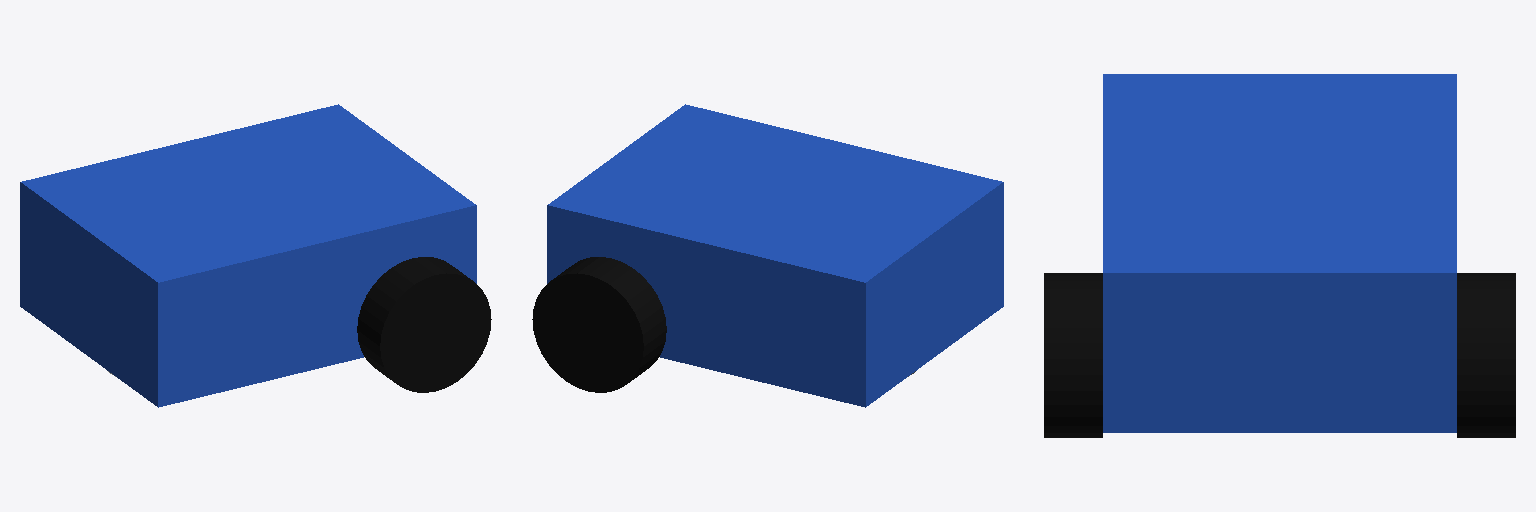
URDF robot description (diff_drive_robot):
<?xml version="1.0"?>
<robot name="diff_drive_robot">

  <!-- ==================== MATERIALS ==================== -->
  <material name="blue">
    <color rgba="0.2 0.4 0.8 1.0"/>
  </material>

  <material name="black">
    <color rgba="0.1 0.1 0.1 1.0"/>
  </material>

  <material name="grey">
    <color rgba="0.6 0.6 0.6 1.0"/>
  </material>

  <!-- ==================== BASE LINK ==================== -->
  <link name="base_link">
    <visual>
      <geometry>
        <box size="0.4 0.3 0.15"/>
      </geometry>
      <material name="blue"/>
      <origin xyz="0 0 0" rpy="0 0 0"/>
    </visual>
    <collision>
      <geometry>
        <box size="0.4 0.3 0.15"/>
      </geometry>
      <origin xyz="0 0 0" rpy="0 0 0"/>
    </collision>
    <inertial>
      <mass value="2.0"/>
      <origin xyz="0 0 0" rpy="0 0 0"/>
      <!-- Inertia for a solid cuboid: I = m/12 * (a² + b²) -->
      <inertia ixx="0.0158" ixy="0.0" ixz="0.0"
               iyy="0.0283" iyz="0.0"
               izz="0.0408"/>
    </inertial>
  </link>

  <!-- ==================== LEFT WHEEL ==================== -->
  <link name="left_wheel">
    <visual>
      <geometry>
        <cylinder radius="0.07" length="0.05"/>
      </geometry>
      <material name="black"/>
      <origin xyz="0 0 0" rpy="1.5708 0 0"/>
    </visual>
    <collision>
      <geometry>
        <cylinder radius="0.07" length="0.05"/>
      </geometry>
      <origin xyz="0 0 0" rpy="1.5708 0 0"/>
    </collision>
    <inertial>
      <mass value="0.5"/>
      <origin xyz="0 0 0" rpy="0 0 0"/>
      <!-- Inertia for a solid cylinder -->
      <inertia ixx="0.000583" ixy="0.0" ixz="0.0"
               iyy="0.000583" iyz="0.0"
               izz="0.001225"/>
    </inertial>
  </link>

  <!-- ==================== RIGHT WHEEL ==================== -->
  <link name="right_wheel">
    <visual>
      <geometry>
        <cylinder radius="0.07" length="0.05"/>
      </geometry>
      <material name="black"/>
      <origin xyz="0 0 0" rpy="1.5708 0 0"/>
    </visual>
    <collision>
      <geometry>
        <cylinder radius="0.07" length="0.05"/>
      </geometry>
      <origin xyz="0 0 0" rpy="1.5708 0 0"/>
    </collision>
    <inertial>
      <mass value="0.5"/>
      <origin xyz="0 0 0" rpy="0 0 0"/>
      <inertia ixx="0.000583" ixy="0.0" ixz="0.0"
               iyy="0.000583" iyz="0.0"
               izz="0.001225"/>
    </inertial>
  </link>

  <!-- ==================== CASTER WHEEL ==================== -->
  <link name="caster_wheel">
    <visual>
      <geometry>
        <sphere radius="0.035"/>
      </geometry>
      <material name="grey"/>
      <origin xyz="0 0 0" rpy="0 0 0"/>
    </visual>
    <collision>
      <geometry>
        <sphere radius="0.035"/>
      </geometry>
      <origin xyz="0 0 0" rpy="0 0 0"/>
    </collision>
    <inertial>
      <mass value="0.1"/>
      <origin xyz="0 0 0" rpy="0 0 0"/>
      <!-- Inertia for a solid sphere: I = 2/5 * m * r² -->
      <inertia ixx="0.0000049" ixy="0.0" ixz="0.0"
               iyy="0.0000049" iyz="0.0"
               izz="0.0000049"/>
    </inertial>
  </link>

  <!-- ==================== JOINTS ==================== -->

  <!-- Left wheel joint -->
  <joint name="left_wheel_joint" type="continuous">
    <parent link="base_link"/>
    <child link="left_wheel"/>
    <origin xyz="0.12 0.175 -0.04" rpy="0 0 0"/>
    <axis xyz="0 1 0"/>
  </joint>

  <!-- Right wheel joint -->
  <joint name="right_wheel_joint" type="continuous">
    <parent link="base_link"/>
    <child link="right_wheel"/>
    <origin xyz="0.12 -0.175 -0.04" rpy="0 0 0"/>
    <axis xyz="0 1 0"/>
  </joint>

  <!-- Caster wheel joint -->
  <joint name="caster_wheel_joint" type="fixed">
    <parent link="base_link"/>
    <child link="caster_wheel"/>
    <origin xyz="-0.15 0.0 -0.075" rpy="0 0 0"/>
  </joint>

  <!-- ==================== GAZEBO PLUGINS ==================== -->

  <!-- Differential drive controller -->
  <gazebo>
    <plugin name="differential_drive_controller"
            filename="libgazebo_ros_diff_drive.so">
      <ros>
        <namespace>/</namespace>
      </ros>
      <left_joint>left_wheel_joint</left_joint>
      <right_joint>right_wheel_joint</right_joint>
      <wheel_separation>0.35</wheel_separation>
      <wheel_diameter>0.14</wheel_diameter>
      <max_wheel_torque>20</max_wheel_torque>
      <max_wheel_acceleration>1.0</max_wheel_acceleration>
      <publish_odom>true</publish_odom>
      <publish_odom_tf>true</publish_odom_tf>
      <publish_wheel_tf>true</publish_wheel_tf>
      <odometry_frame>odom</odometry_frame>
      <robot_base_frame>base_link</robot_base_frame>
    </plugin>
  </gazebo>

  <!-- Gazebo material for base -->
  <gazebo reference="base_link">
    <material>Gazebo/Blue</material>
  </gazebo>

  <!-- Gazebo material for wheels -->
  <gazebo reference="left_wheel">
    <material>Gazebo/Black</material>
    <mu1>1.0</mu1>
    <mu2>1.0</mu2>
  </gazebo>

  <gazebo reference="right_wheel">
    <material>Gazebo/Black</material>
    <mu1>1.0</mu1>
    <mu2>1.0</mu2>
  </gazebo>

  <!-- Caster wheel - low friction so it slides freely -->
  <gazebo reference="caster_wheel">
    <material>Gazebo/Grey</material>
    <mu1>0.01</mu1>
    <mu2>0.01</mu2>
  </gazebo>

</robot>

--- Render facts (derived) ---
3 views of the same robot in one strip: view 1: azimuth 30°, elevation 25°; view 2: azimuth 150°, elevation 25°; view 3: azimuth 270°, elevation 25° (orthographic).
Robot: diff_drive_robot — 4 links, 3 joints (2 continuous, 1 fixed); root link base_link; default pose: all joints at 0.
Links seen in each view (by area): view 1: base_link, right_wheel; view 2: base_link, left_wheel; view 3: base_link, left_wheel, right_wheel.
Boxes of the visible links, <box> form: base_link: <box>20,104,476,407</box>; right_wheel: <box>357,257,491,392</box>; base_link: <box>547,104,1003,407</box>; left_wheel: <box>532,257,666,392</box>; base_link: <box>1103,74,1456,432</box>; left_wheel: <box>1457,273,1515,437</box>; right_wheel: <box>1044,273,1102,437</box>.
Bounding box of the posed robot: 0.4 × 0.4 × 0.185 m (x, y, z).
Geometry: primitives only (box / cylinder / sphere), no mesh files.
